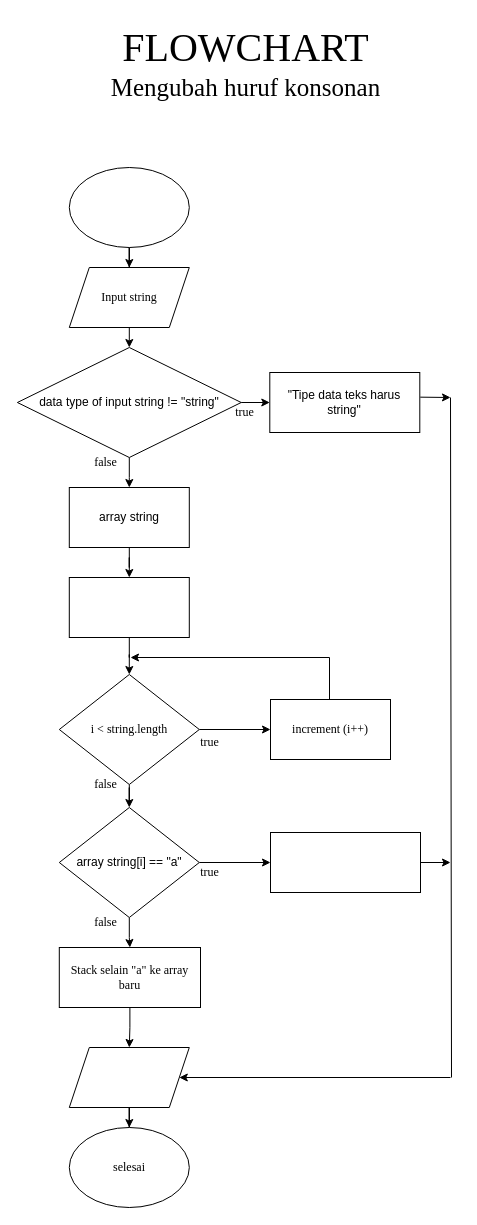
Some shapes in this 477 by 1225 pixel diagram are drawn without their labels. The shapes that lost their labels are listed below. From the top down, each one's box as (x1, y1, x2, y2) in pixels, then its label:
(68, 166, 189, 248): Mulai
(68, 576, 189, 638): i = 0
(270, 832, 420, 892): Stack "o" ke array baru
(68, 1046, 189, 1108): Output hasil
